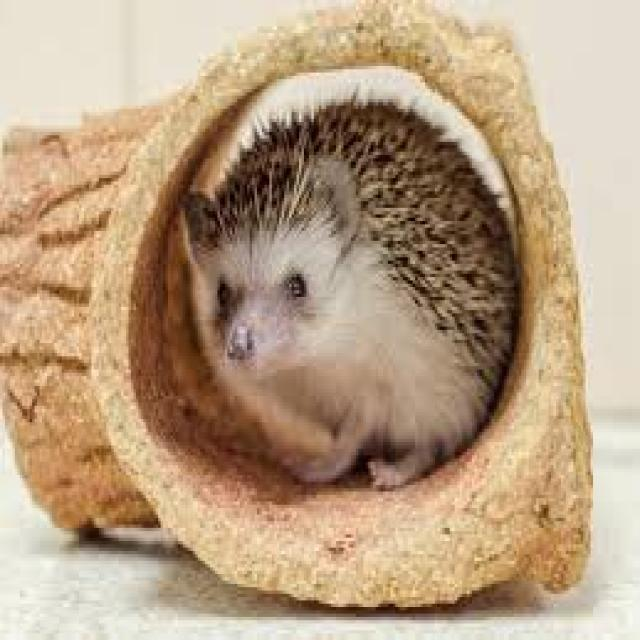Hedgehog: (179, 95, 526, 479)
